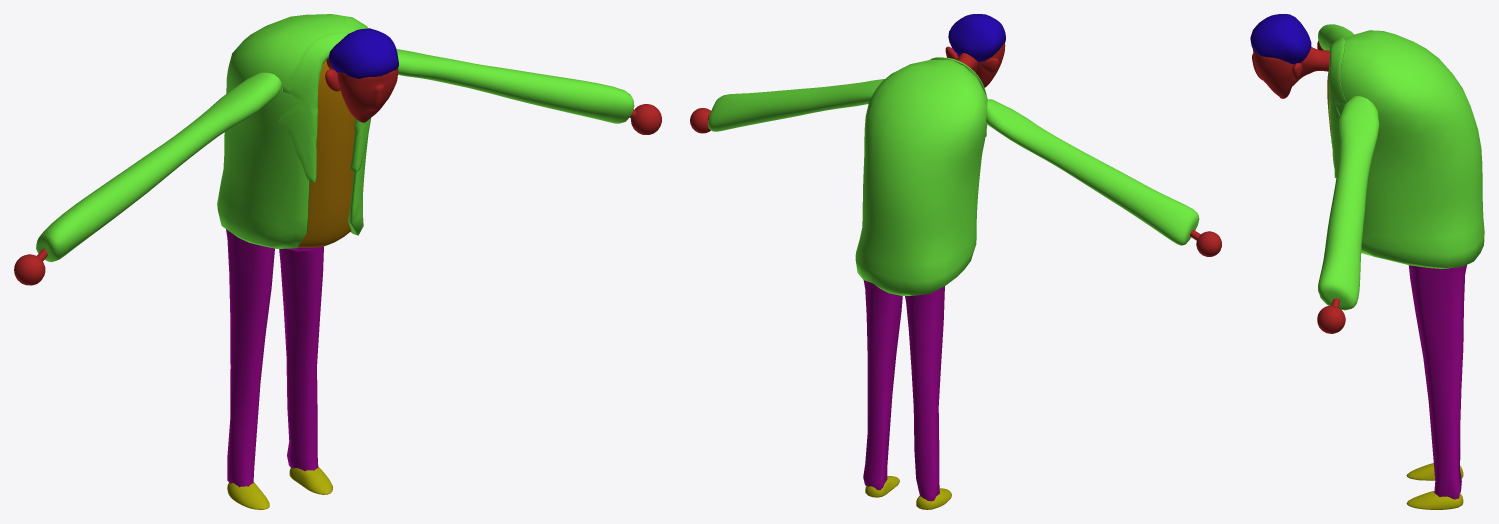
The model's file is nemico base.fbx.
3 renders of one model, left to right at view 1: azimuth 30°, elevation 25°; view 2: azimuth 150°, elevation 25°; view 3: azimuth 270°, elevation 25°, orthographic. The views are drawn at different scales.
Visible parts, largest first — view 1: polySurface8; view 2: polySurface8; view 3: polySurface8.
Boxes of the visible parts, <box> form: polySurface8: <box>14,14,661,509</box>; polySurface8: <box>690,14,1221,509</box>; polySurface8: <box>1250,14,1484,509</box>.
Size of the model in its own units: 11.47 by 8.85 by 3.97.
